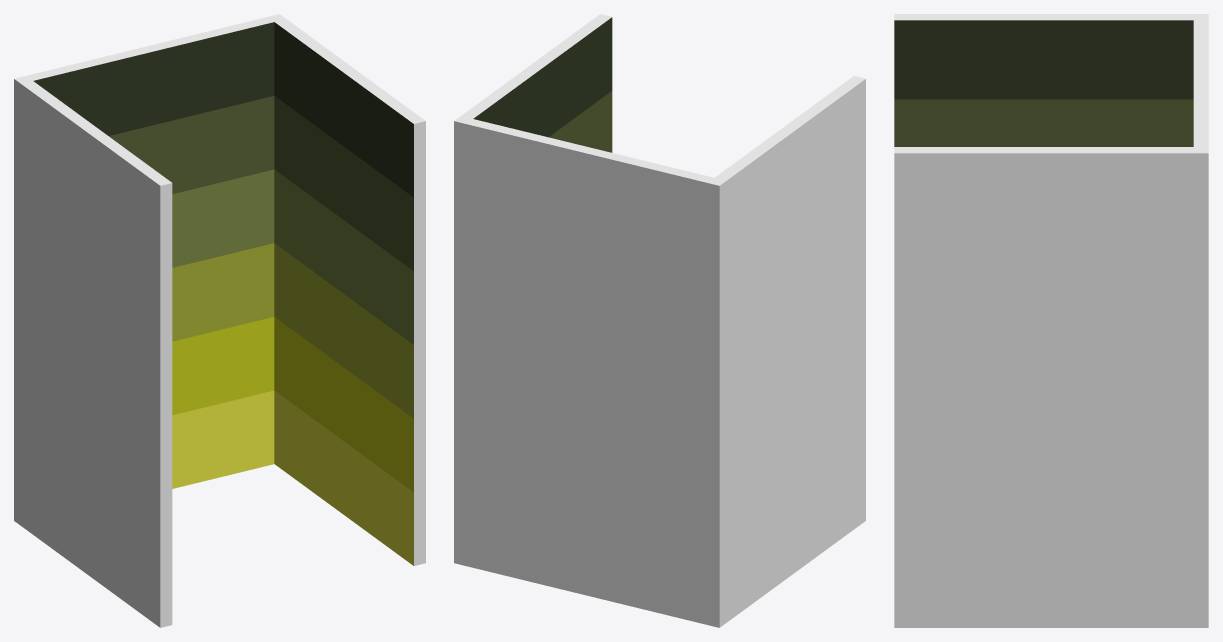
Rendered from Prop_WallCShape_03.fbx.
The picture shows the model from 3 angles, left to right: view 1: azimuth 30°, elevation 25°; view 2: azimuth 150°, elevation 25°; view 3: azimuth 270°, elevation 25°; orthographic projection. The views are drawn at different scales.
Visible parts, largest first — view 1: Prop_WallCShape_03; view 2: Prop_WallCShape_03; view 3: Prop_WallCShape_03.
Part boxes in pixels (<box>): Prop_WallCShape_03: <box>14,14,425,627</box>; Prop_WallCShape_03: <box>454,14,865,627</box>; Prop_WallCShape_03: <box>894,14,1208,627</box>.
Bounding box in the file's own units: 220 × 350 × 210.
